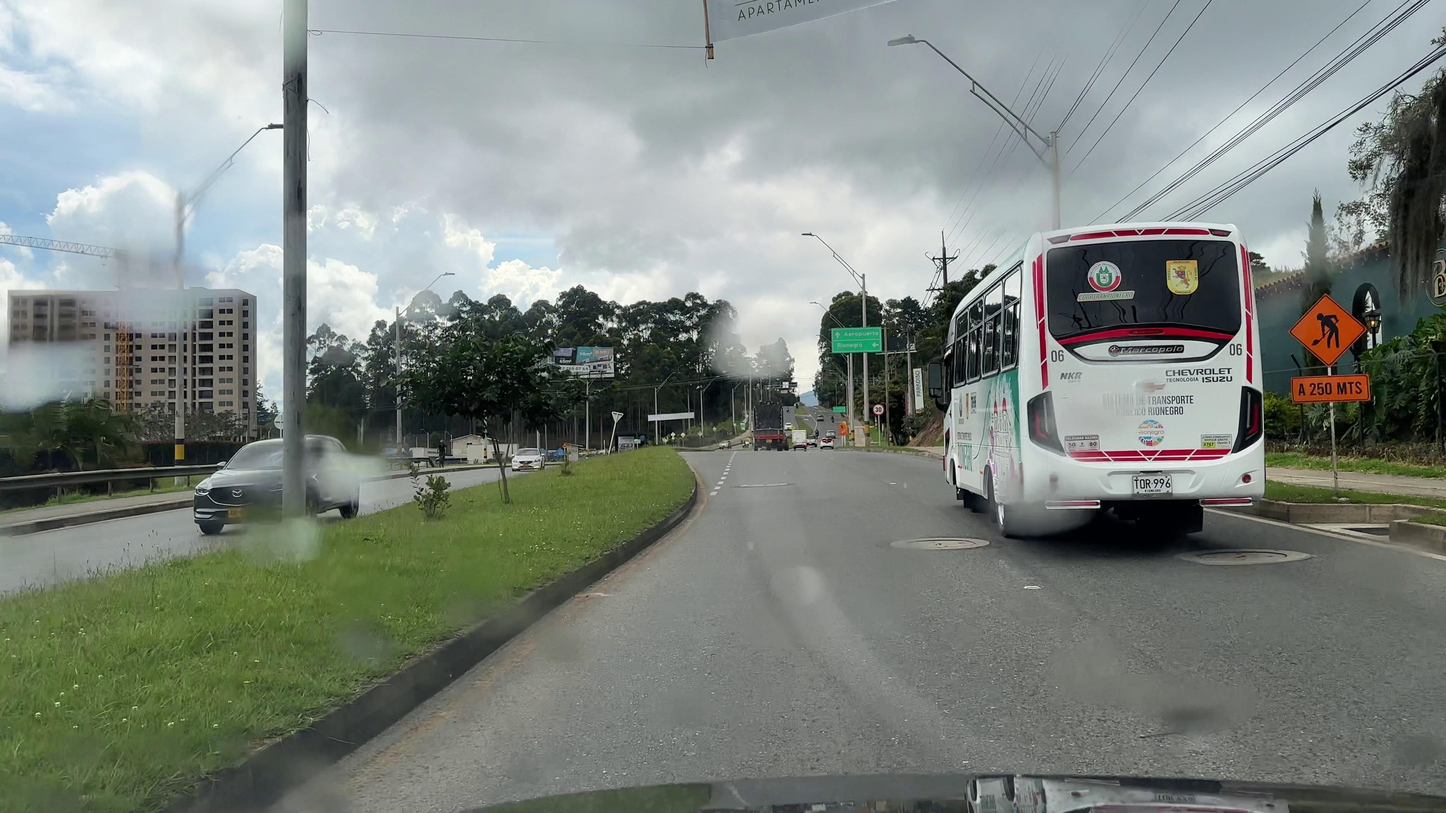registro: (1194, 552, 1287, 562), (908, 540, 975, 548)
rejilla: (1342, 528, 1390, 535)
